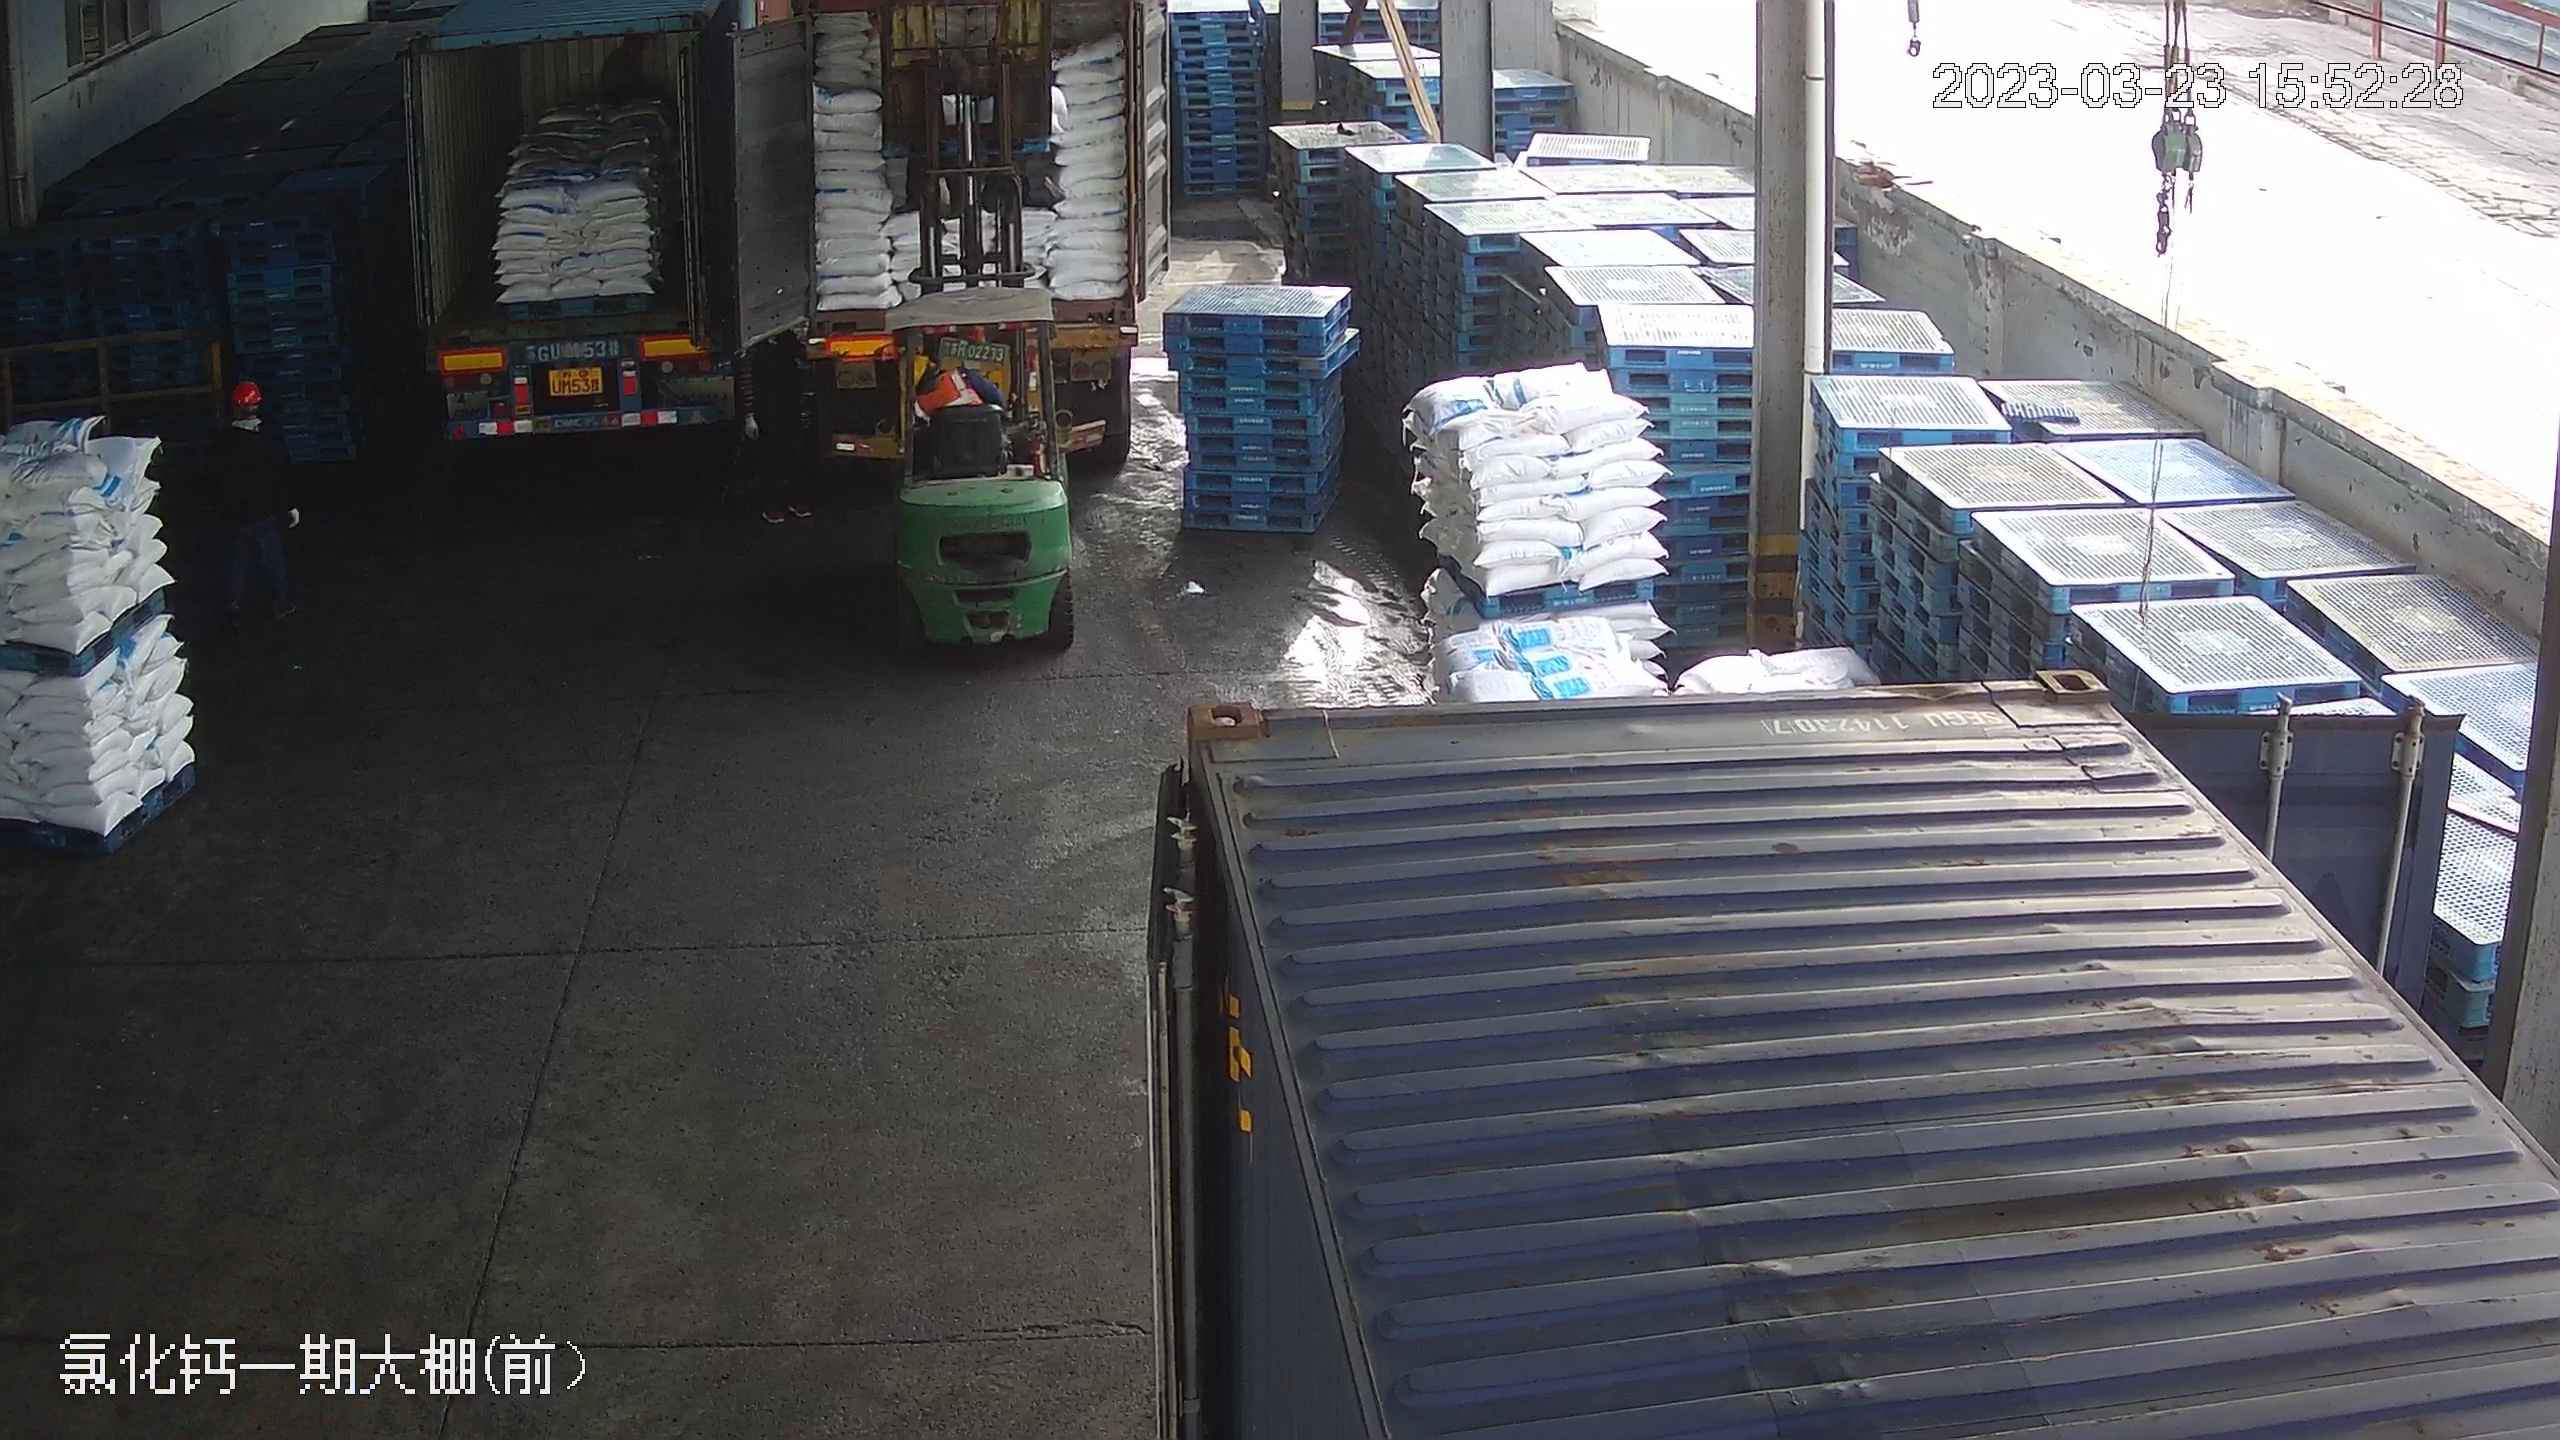head: (211, 378, 283, 454)
helmet: (229, 377, 263, 404)
people: (210, 373, 306, 628)
truck: (1152, 255, 2531, 1440), (398, 20, 750, 449)
